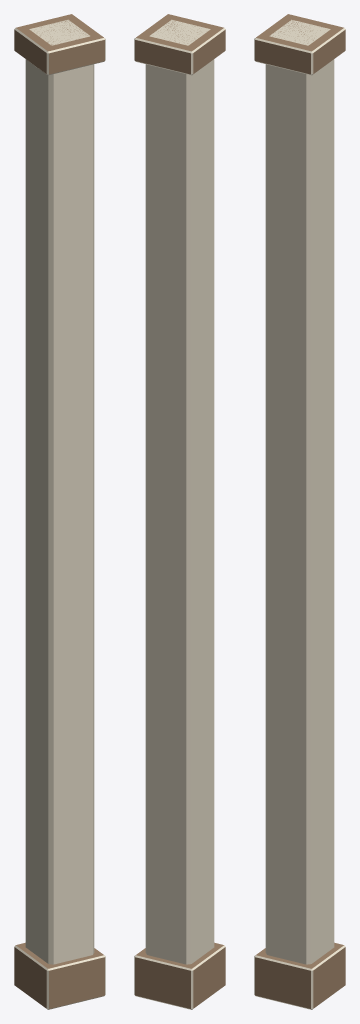
The model's file is esquinero_280.glb.
The picture shows the model from 3 angles, left to right: view 1: azimuth 30°, elevation 25°; view 2: azimuth 150°, elevation 25°; view 3: azimuth 330°, elevation 25°; orthographic projection.
Parts seen in each view (by area): view 1: esquinero_280; view 2: esquinero_280; view 3: esquinero_280.
Part boxes in pixels (x1,y1,x2,y2): esquinero_280: (14,14,105,1009); esquinero_280: (134,14,225,1009); esquinero_280: (254,14,345,1009).
Bounding box in the file's own units: 0.18 × 2.8 × 0.18.
